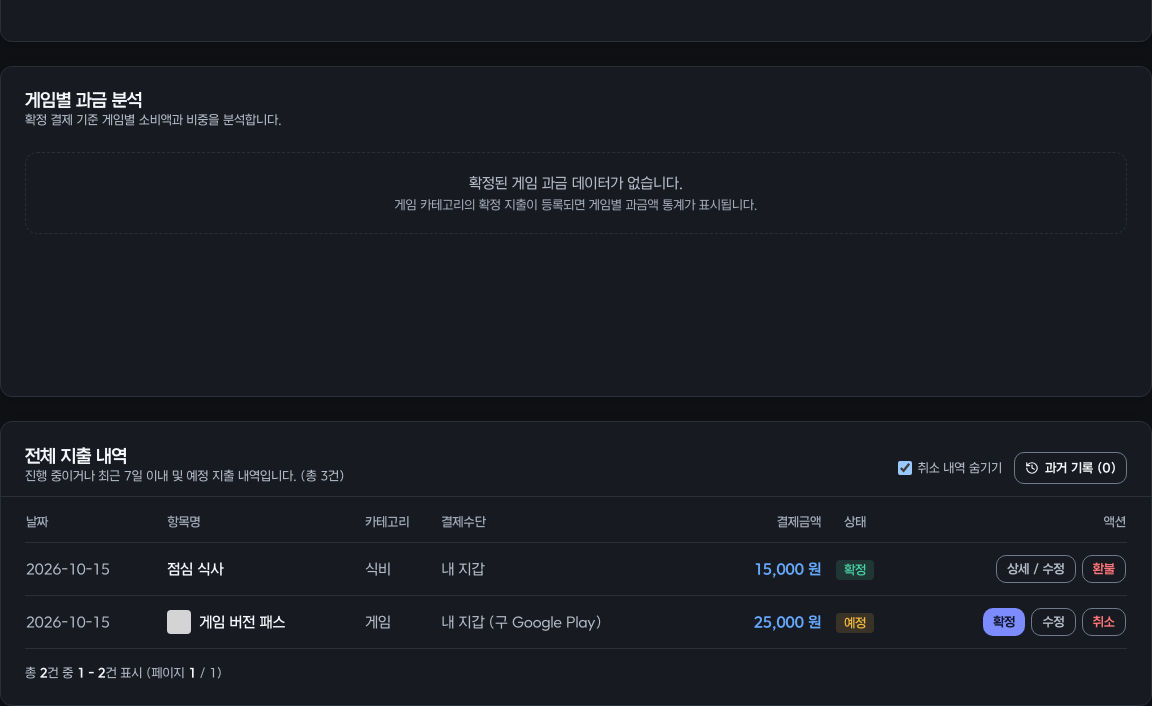
Scenario: ExpensesPage › 목록에서 상태별 액션 버튼([확정], [취소], [환불], [되돌리기])이 올바르게 표시된다
(page scrolled)
Expected: the button "확정" is shown, 983,608 -> 1026,636
Expected: the button "취소" is shown, 1082,608 -> 1126,636
// 취소 내역 숨기기 해제 시 CANCELLED 항목 및 되돌리기 버튼 노출
What coordinates should you click on to do the following:
click the checkbox labelled "취소 내역 숨기기"
I would click on:
 (905, 468)
Its box is 898,461 -> 912,475.
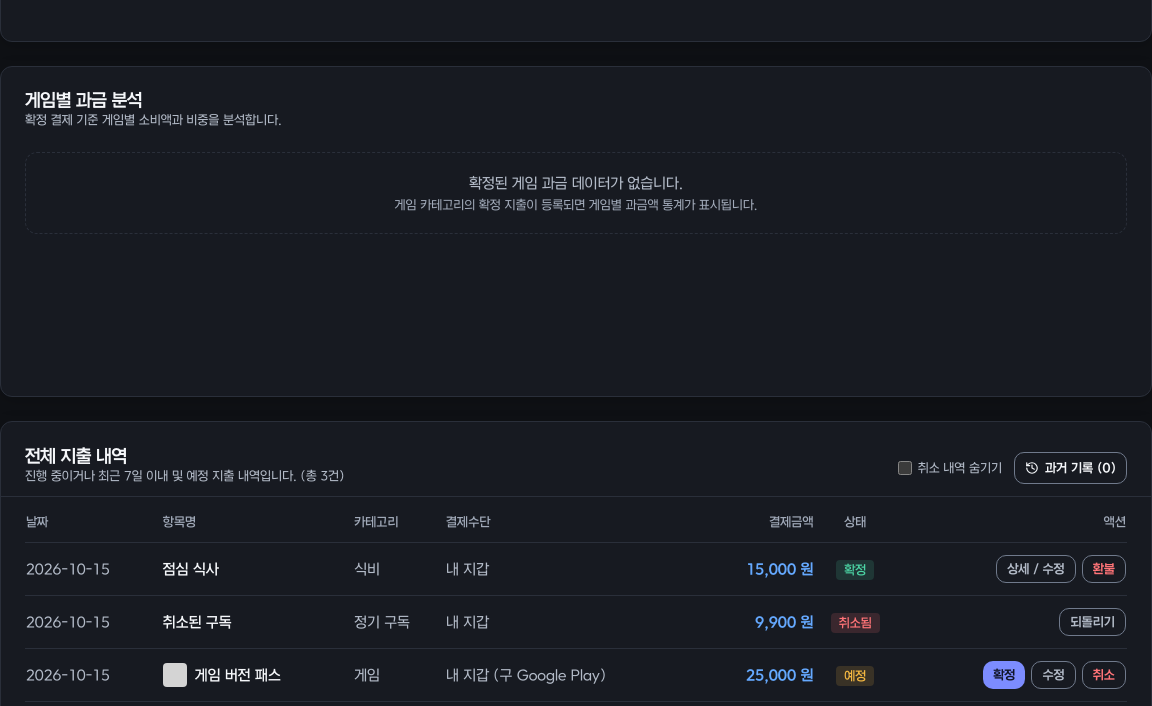
Result: the button "되돌리기" is shown at 1060,608 -> 1126,636
